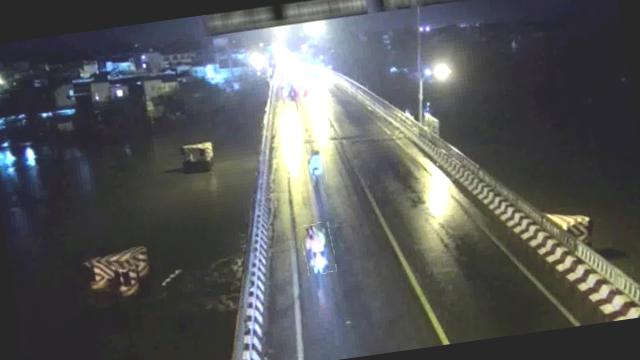Bike: (299, 222, 336, 276), (306, 144, 327, 181)
